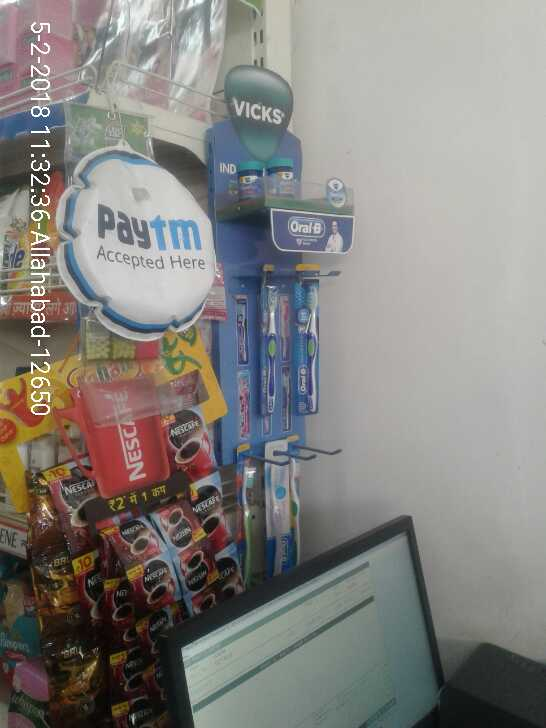pharmacy: (293, 261, 324, 414), (265, 441, 292, 573), (233, 447, 258, 585), (260, 263, 279, 418), (292, 443, 304, 567), (263, 159, 296, 204), (236, 162, 267, 202)
